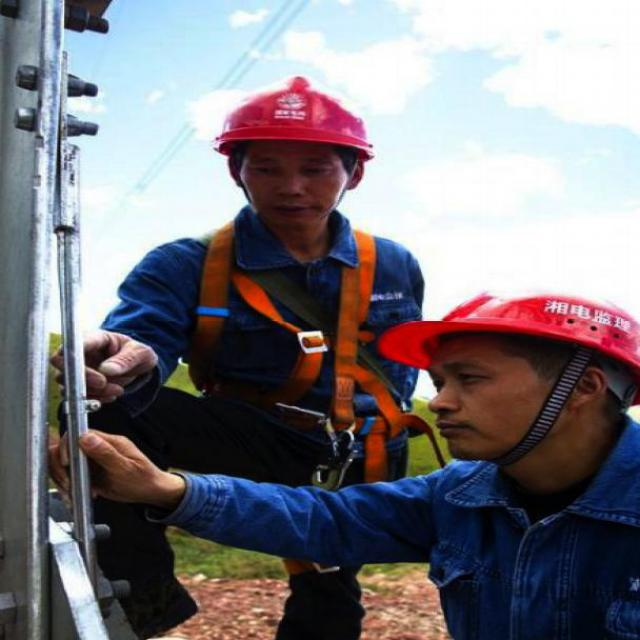helmet: (371, 276, 638, 458), (205, 75, 382, 226)
vest: (150, 234, 388, 437)
